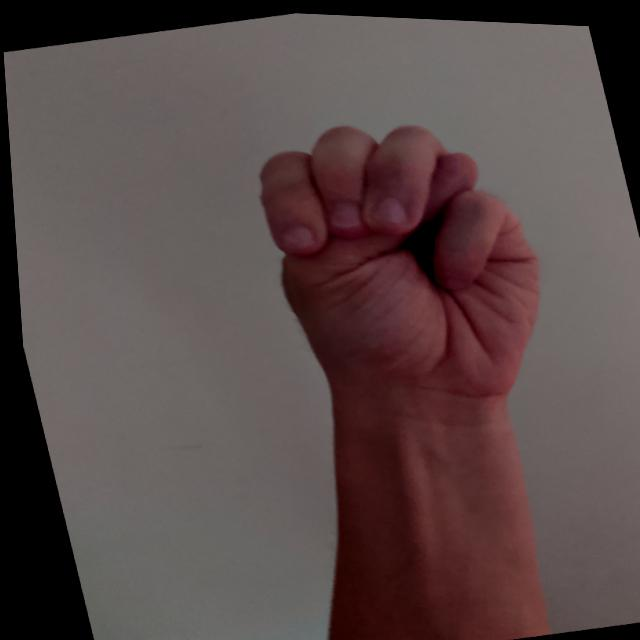M: (219, 80, 578, 437)
